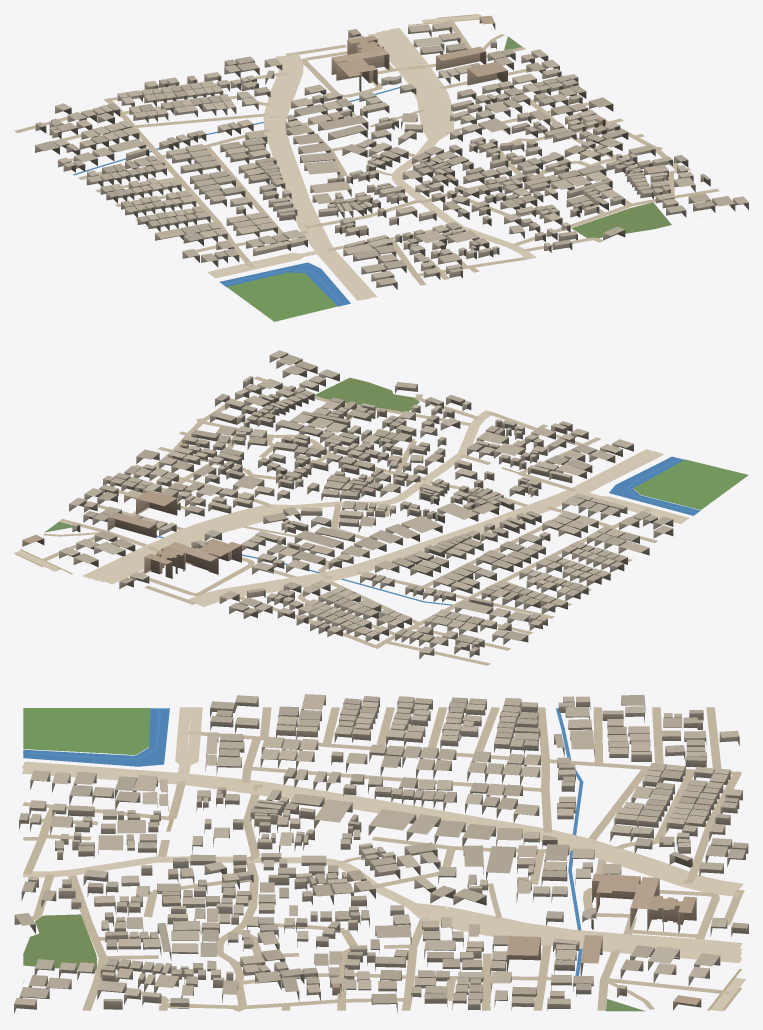
3 renders of one model, top to bottom at view 1: azimuth 30°, elevation 25°; view 2: azimuth 150°, elevation 25°; view 3: azimuth 270°, elevation 25°, orthographic. The views are drawn at different scales.
Visible parts, largest first — view 1: building, ground, water; view 2: building, ground, water; view 3: building, ground, water.
Boxes of the visible parts, x1,y1,x2,y2 form: building: (35, 15, 748, 289); ground: (14, 14, 719, 321); water: (73, 77, 439, 306); building: (22, 350, 673, 659); ground: (14, 370, 748, 665); water: (156, 456, 700, 605); building: (14, 694, 748, 1013); ground: (22, 707, 745, 1011); water: (23, 708, 583, 975).
Size of the model in its own units: 513 by 18 by 512.
